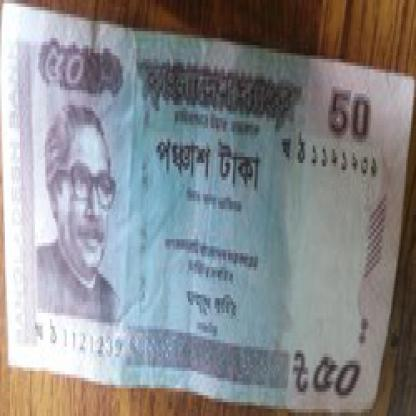Fifty taka: (284, 340, 382, 412), (35, 28, 100, 94)
